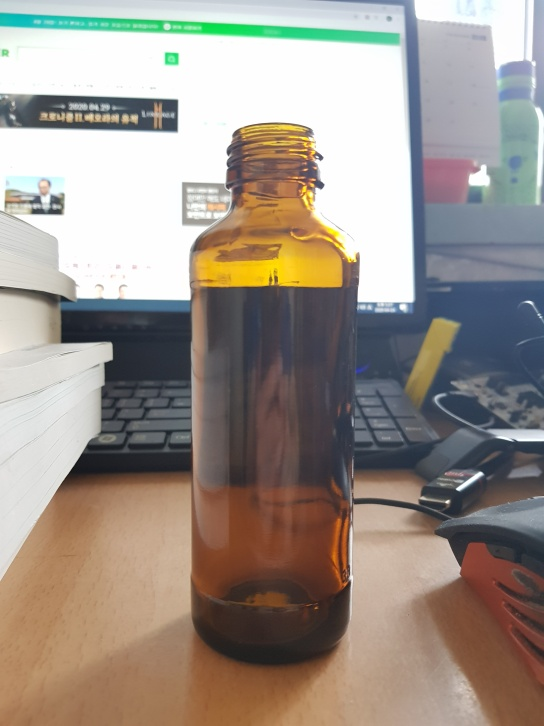Glass: (188, 124, 358, 663)
